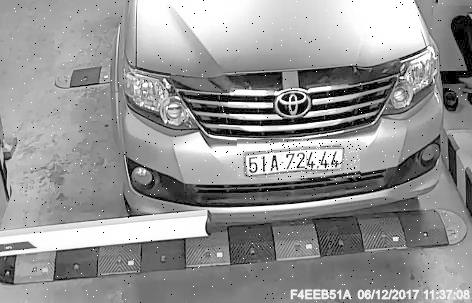License-plate: (239, 141, 363, 182)
